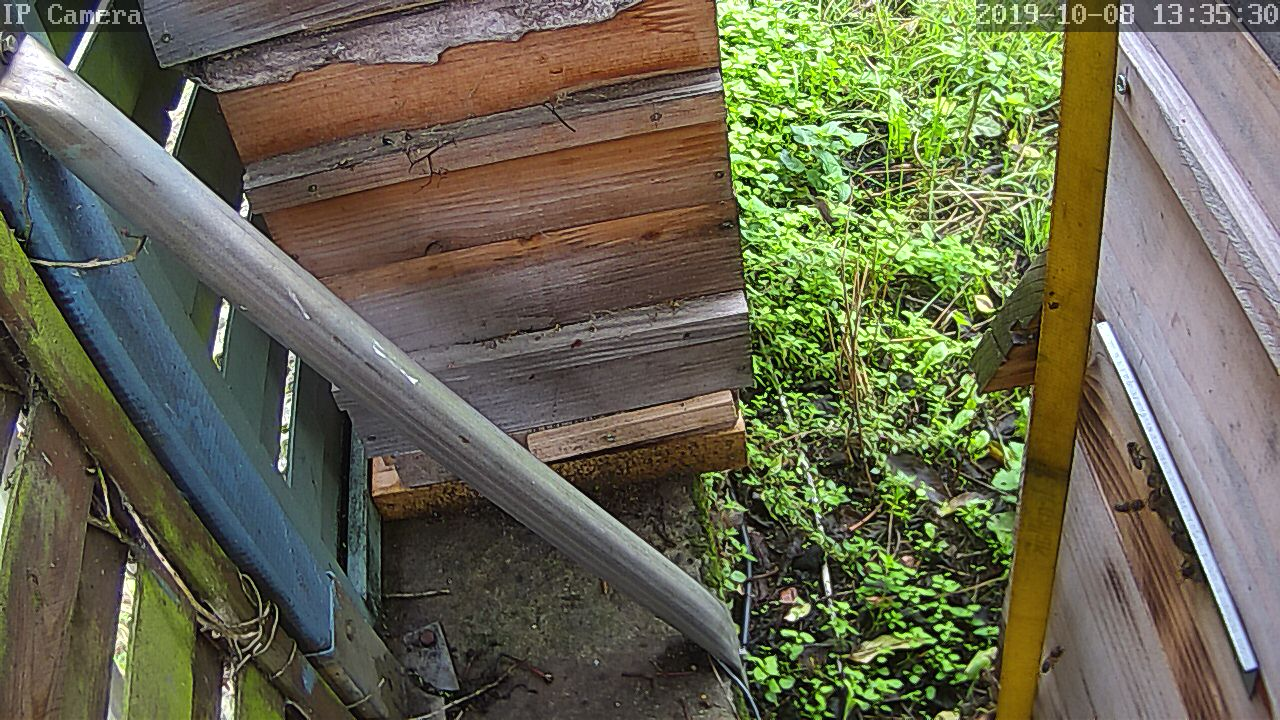bee: (1115, 490, 1181, 528), (1169, 535, 1202, 587), (1036, 644, 1067, 680), (1119, 437, 1149, 474)
